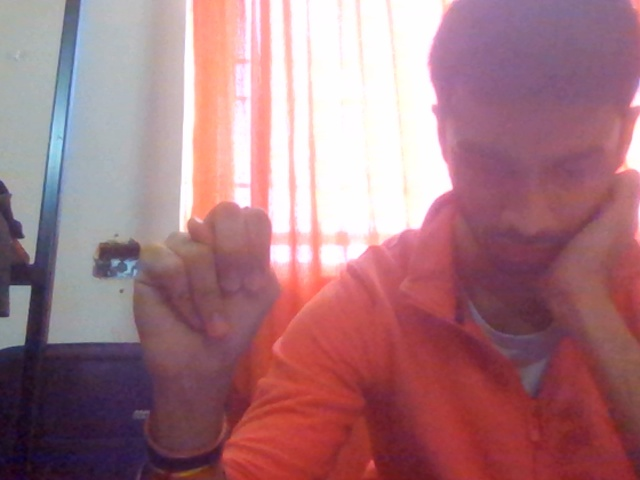N: (124, 200, 304, 468)
